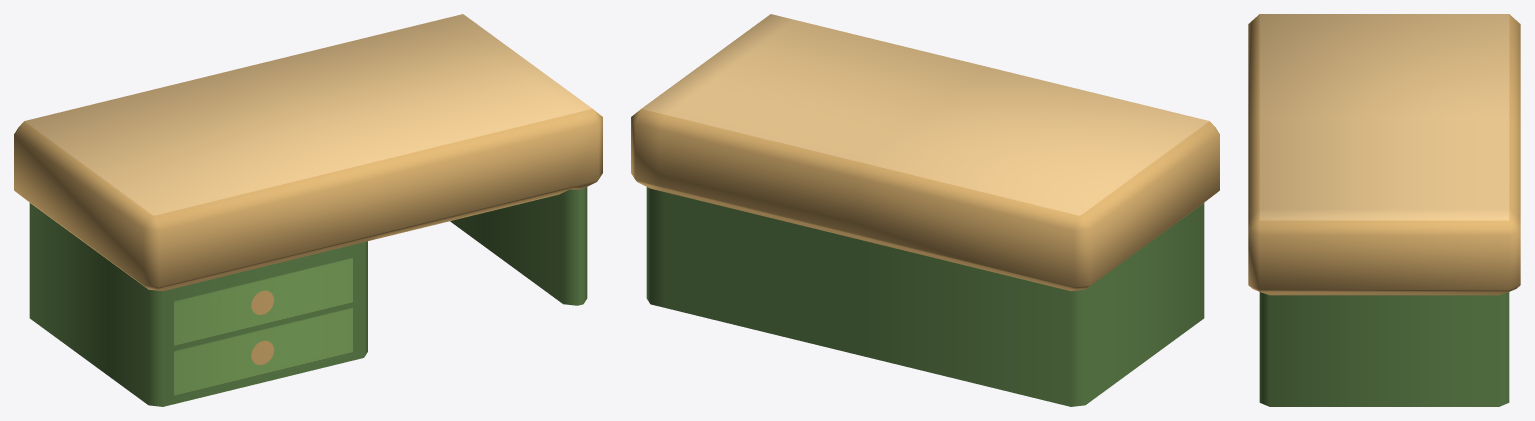
File: desk.fbx
3 views of the same model, side by side, from view 1: azimuth 30°, elevation 25°; view 2: azimuth 150°, elevation 25°; view 3: azimuth 270°, elevation 25° (orthographic). The views are drawn at different scales.
Visible parts, largest first — view 1: Cube.071; view 2: Cube.071; view 3: Cube.071.
Boxes of the visible parts, box(x1,y1,x2,y2) form: Cube.071: box(14, 14, 602, 406); Cube.071: box(631, 14, 1219, 406); Cube.071: box(1248, 14, 1520, 406).
Bounding box in the file's own units: 243 × 97.91 × 130.
